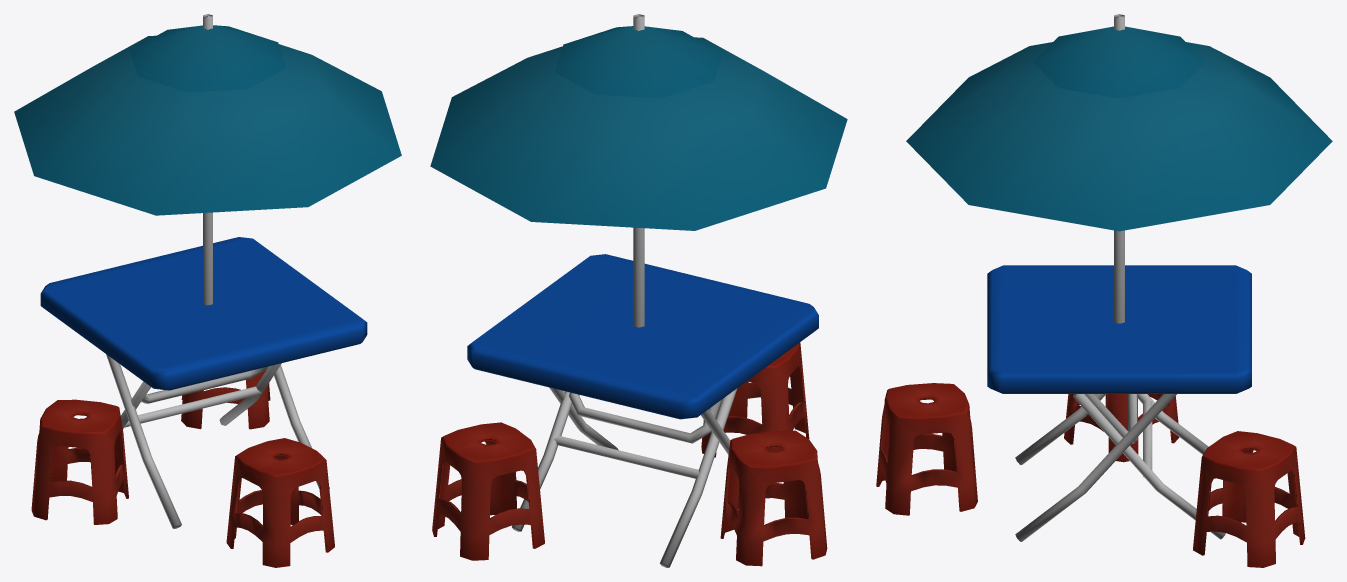
File: CNJ_StoreTableSet_SM.fbx
3 renders of one model, left to right at view 1: azimuth 30°, elevation 25°; view 2: azimuth 150°, elevation 25°; view 3: azimuth 270°, elevation 25°, orthographic. The views are drawn at different scales.
Parts seen in each view (by area): view 1: CNJ_StoreTableSet_SM; view 2: CNJ_StoreTableSet_SM; view 3: CNJ_StoreTableSet_SM.
Part boxes in pixels (x1,y1,x2,y2): CNJ_StoreTableSet_SM: (14, 14, 401, 567); CNJ_StoreTableSet_SM: (430, 14, 847, 567); CNJ_StoreTableSet_SM: (876, 14, 1332, 567).
Bounding box in the file's own units: 143 × 181 × 153.
